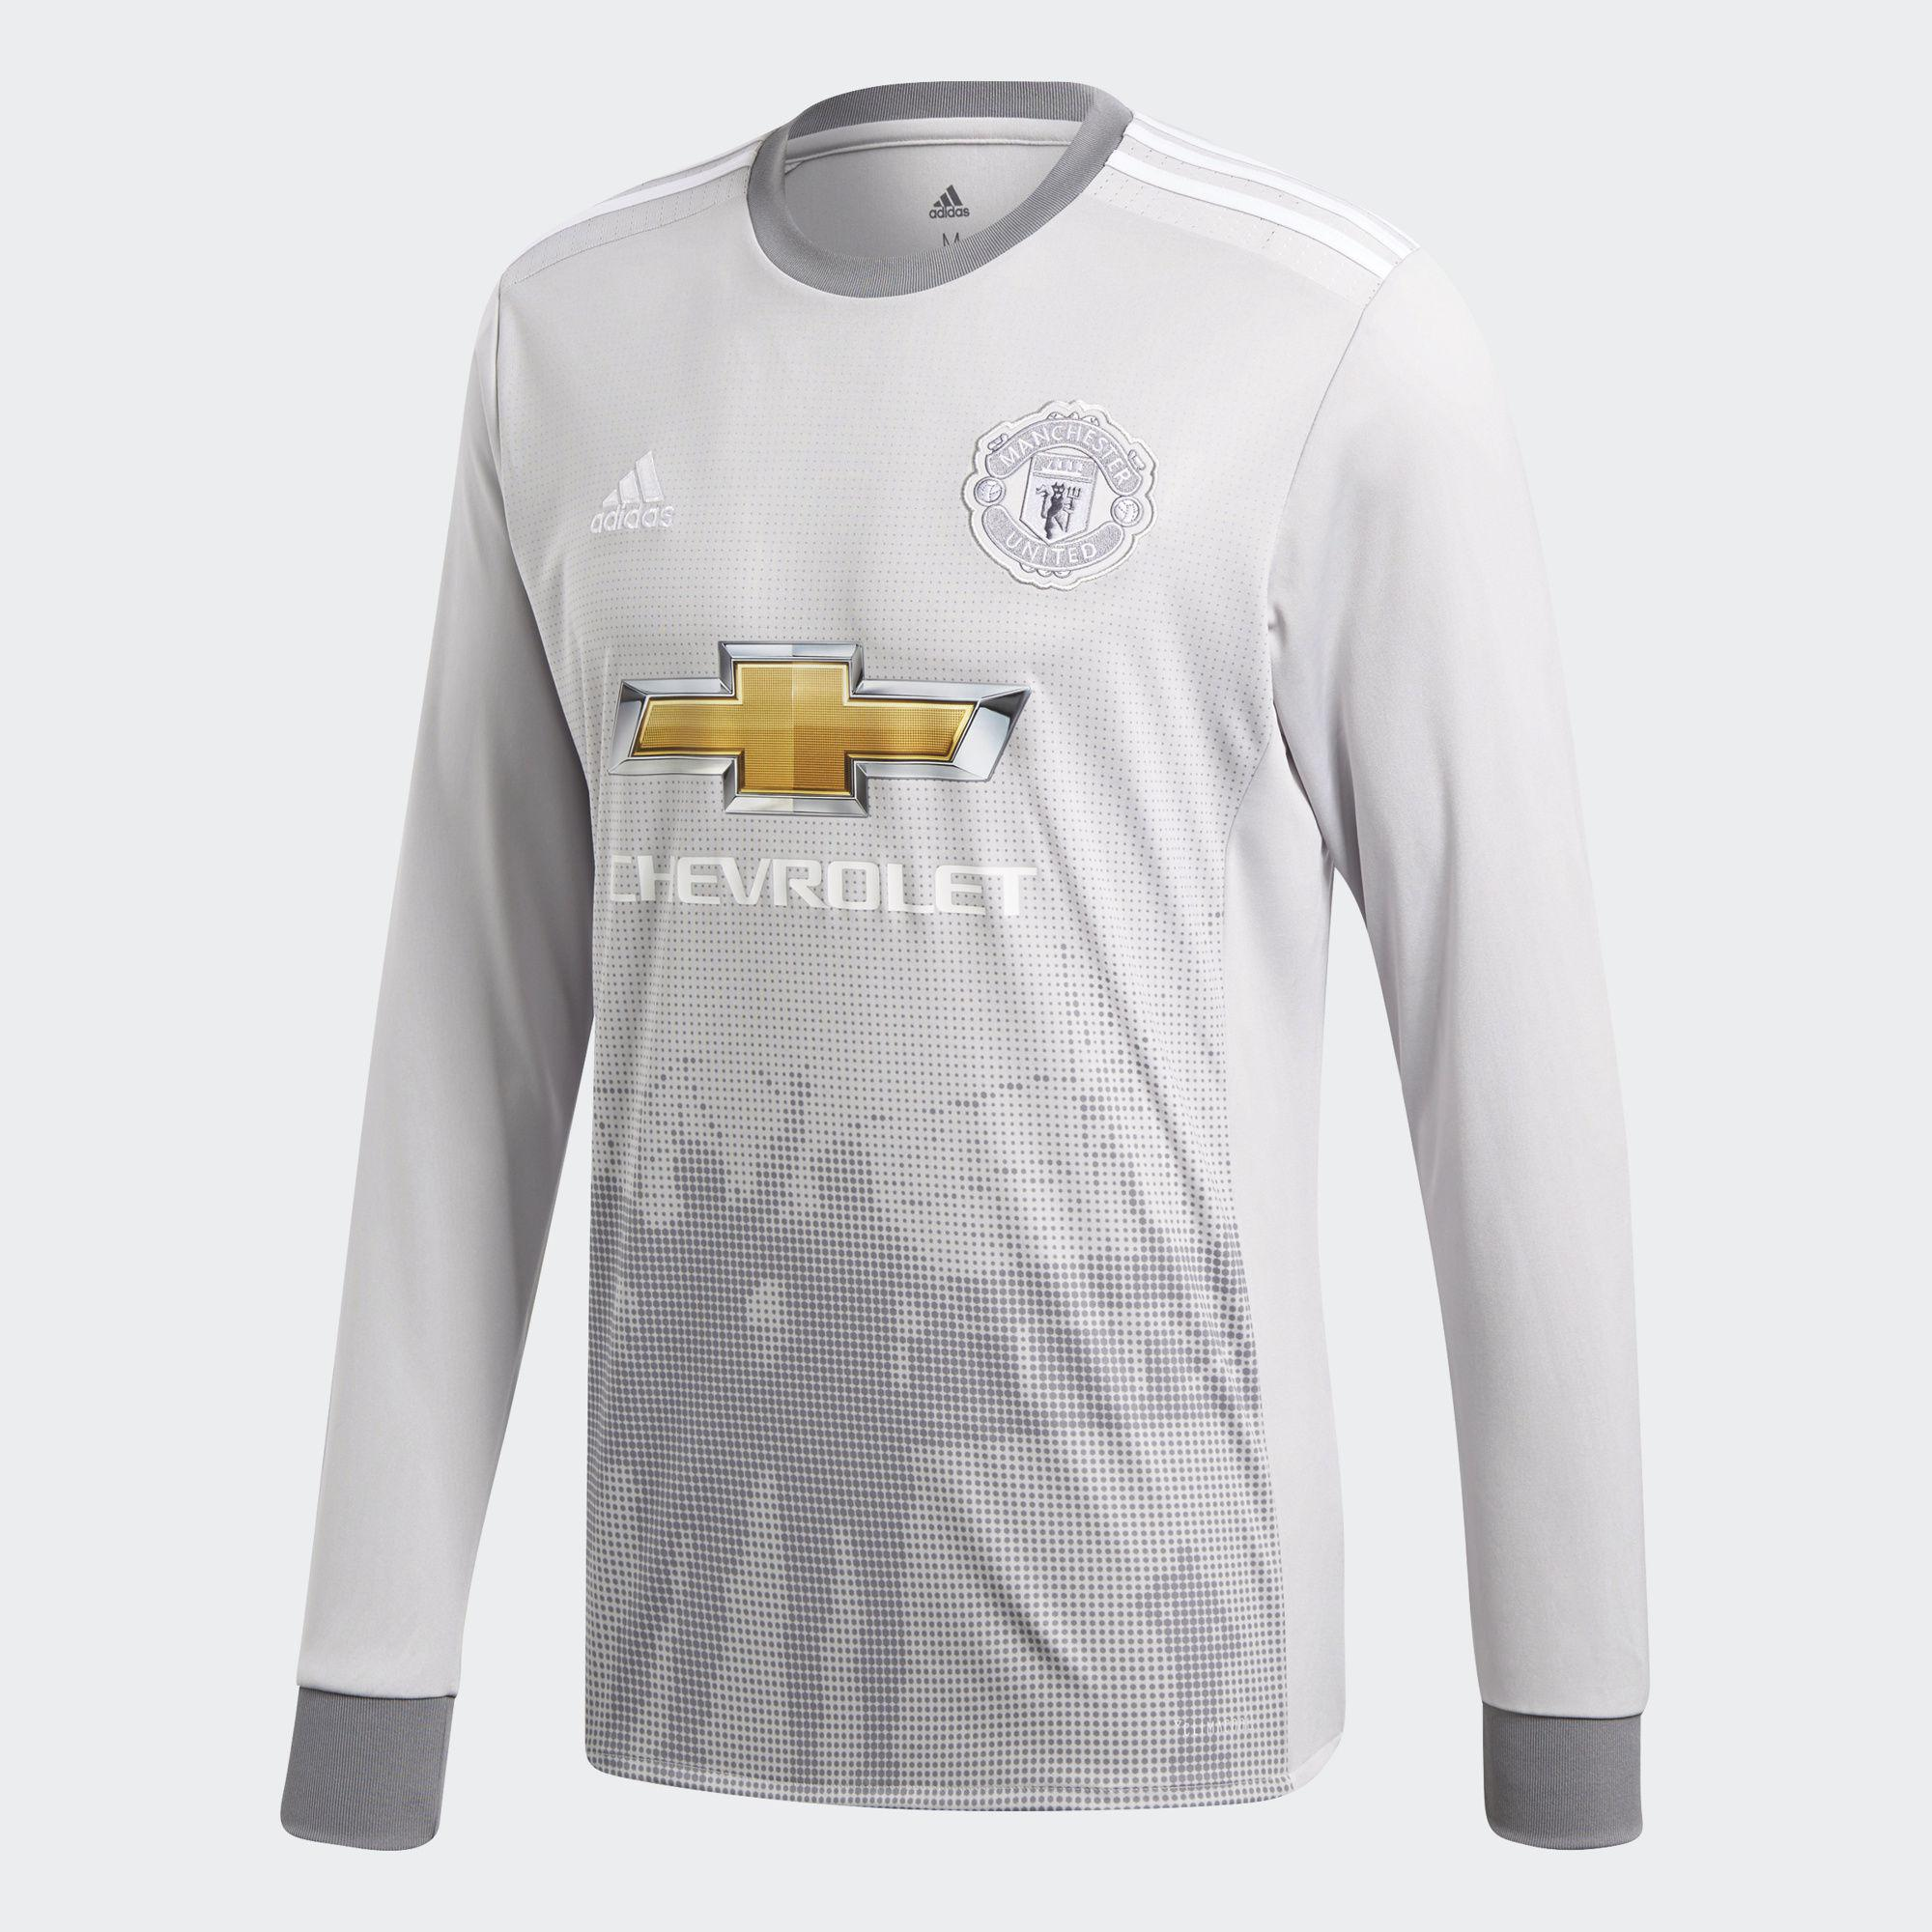teeshirt: (177, 37, 1683, 1932)
